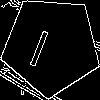I: (26, 21, 55, 68)
